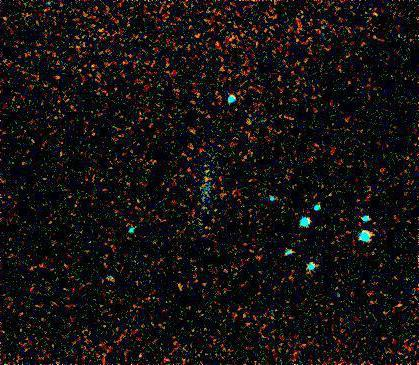star: (233, 106, 263, 136)
